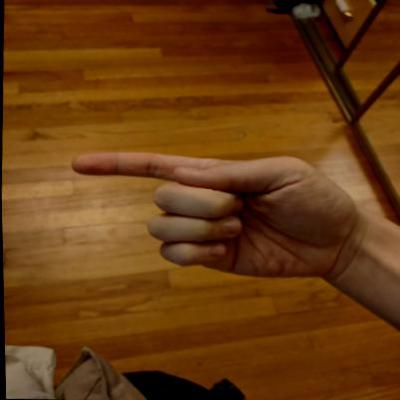hand: (63, 144, 361, 288)
